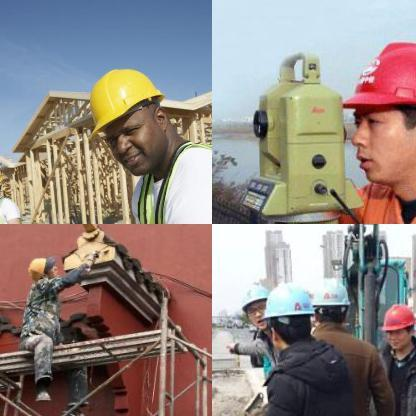Helmet: (332, 28, 415, 203), (73, 52, 181, 180), (262, 280, 312, 342), (307, 269, 349, 335), (377, 297, 415, 352), (235, 276, 268, 328), (28, 252, 57, 280)
